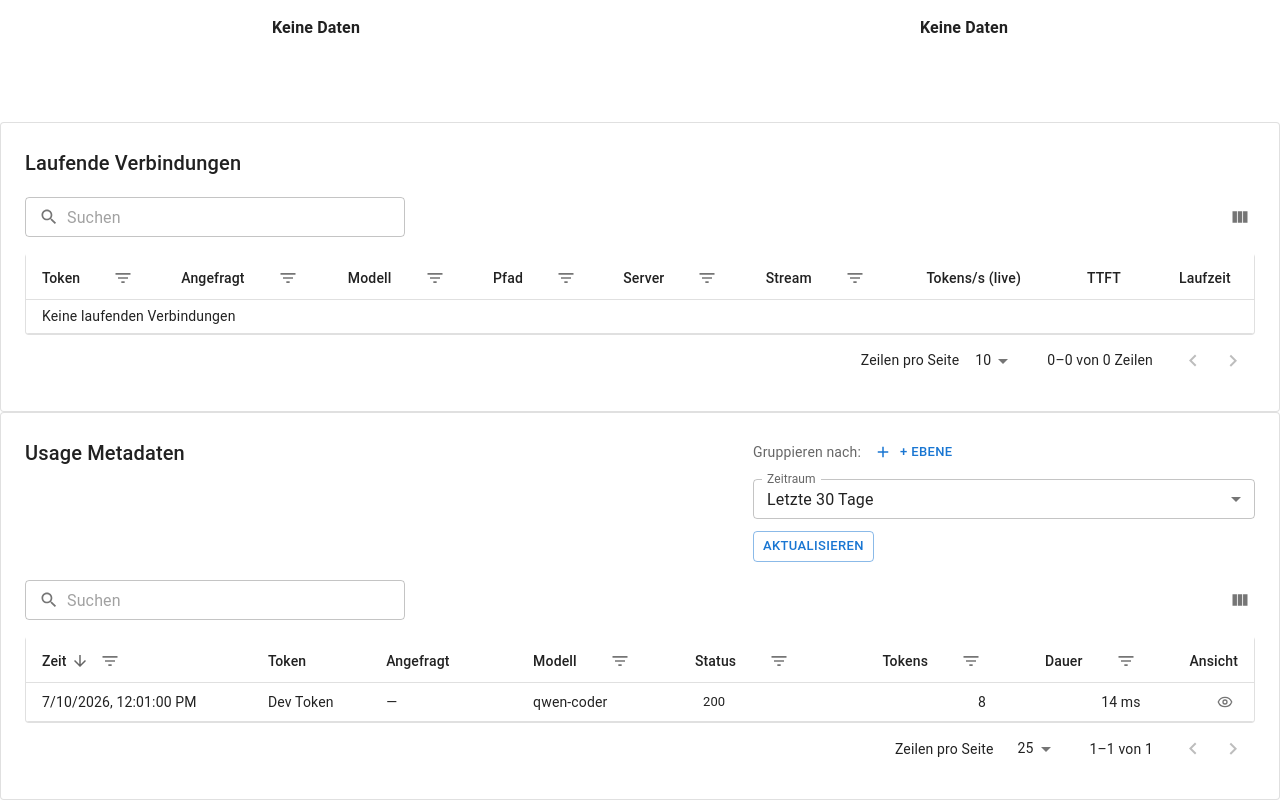
it: closes the dialog on the close button
(page scrolled)
Expected: the cell "qwen-coder" is shown, x1=517 y1=682 x2=679 y2=722
What coordinates should you click on to do the following:
click the button named "Ansicht"
I would click on:
 (1225, 702)
Its box is x1=1212 y1=689 x2=1238 y2=715.
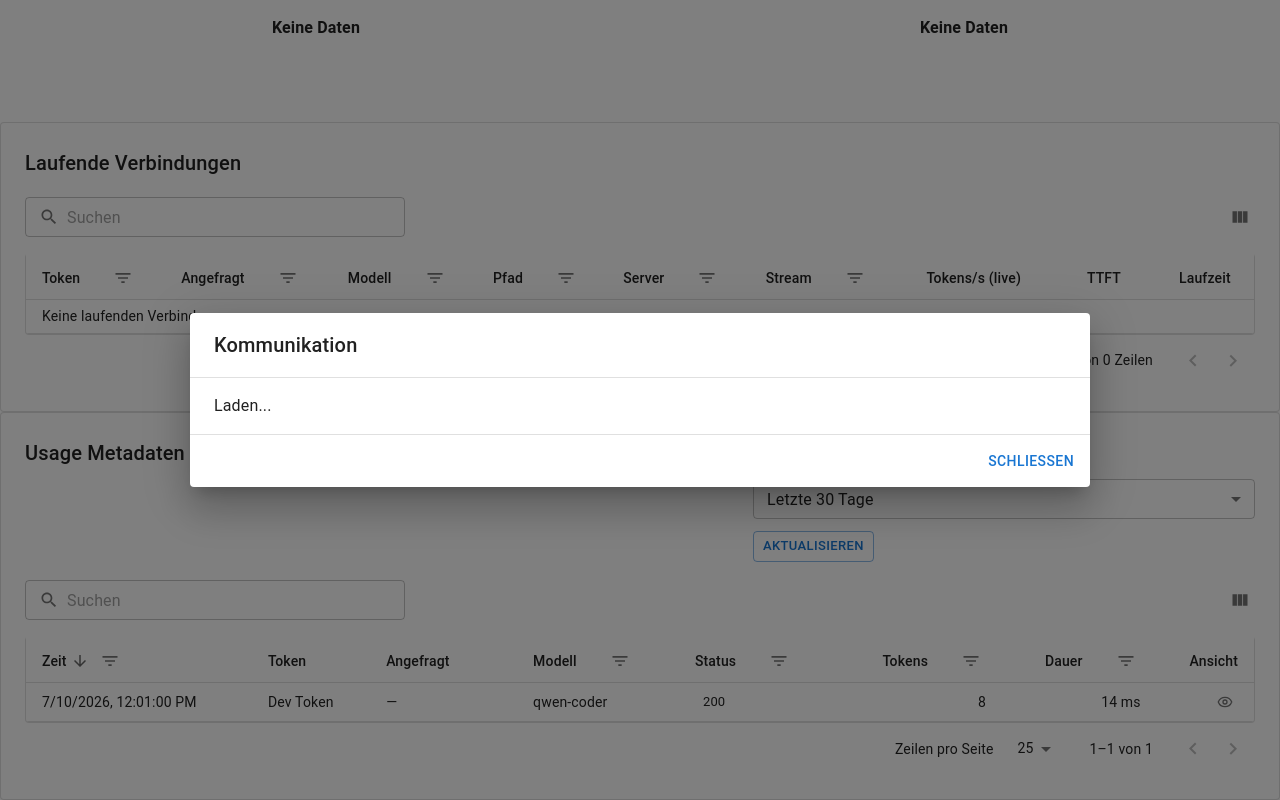
Expected: the heading "Kommunikation" is shown, x1=214 y1=333 x2=357 y2=357
What coordinates should you click on to do the following:
click the button "Schließen"
I would click on:
 (1031, 461)
Its box is x1=980 y1=443 x2=1082 y2=479.
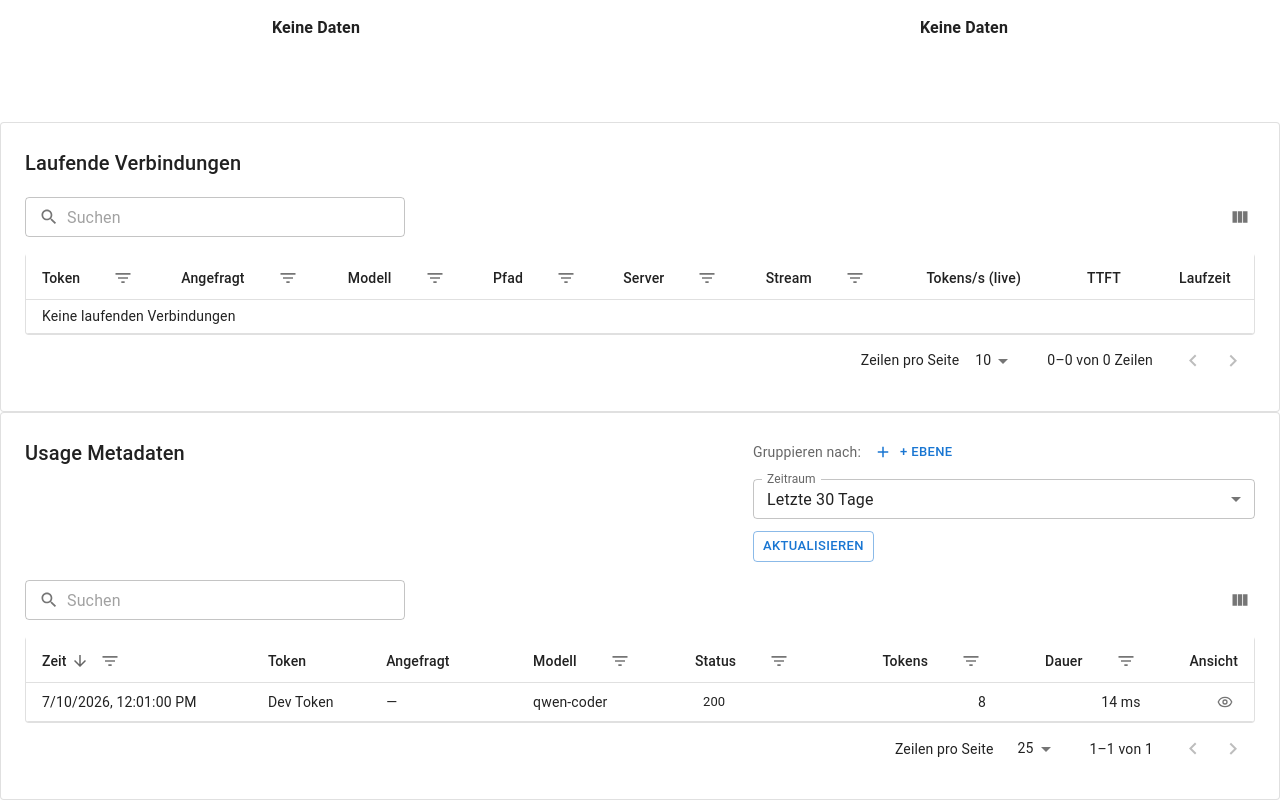
Expected: the heading "Kommunikation" is gone
